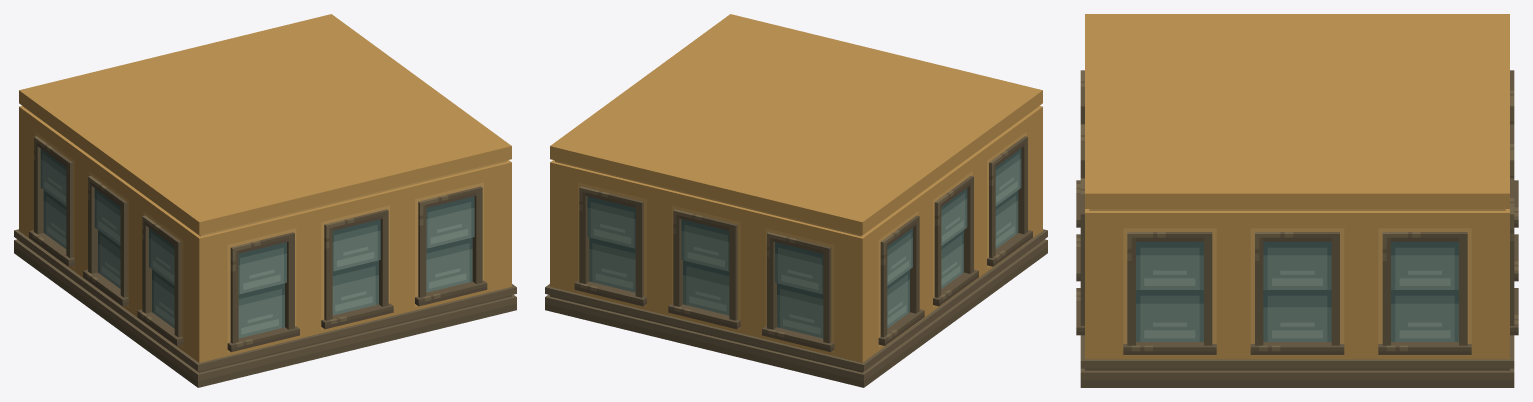
The model's file is Voxel City-5-Building Block_Yellow_B-2.obj.
3 views of the same model, side by side, from view 1: azimuth 30°, elevation 25°; view 2: azimuth 150°, elevation 25°; view 3: azimuth 270°, elevation 25° (orthographic). The views are drawn at different scales.
Parts seen in each view (by area): view 1: Building Block_Yellow_B-2; view 2: Building Block_Yellow_B-2; view 3: Building Block_Yellow_B-2.
Boxes of the visible parts, x1=… form: Building Block_Yellow_B-2: x1=14, y1=14, x2=516, y2=387; Building Block_Yellow_B-2: x1=545, y1=14, x2=1047, y2=387; Building Block_Yellow_B-2: x1=1076, y1=14, x2=1518, y2=387.
Size of the model in its own units: 5.2 by 2.5 by 5.2.
1 material, 1 textured.
